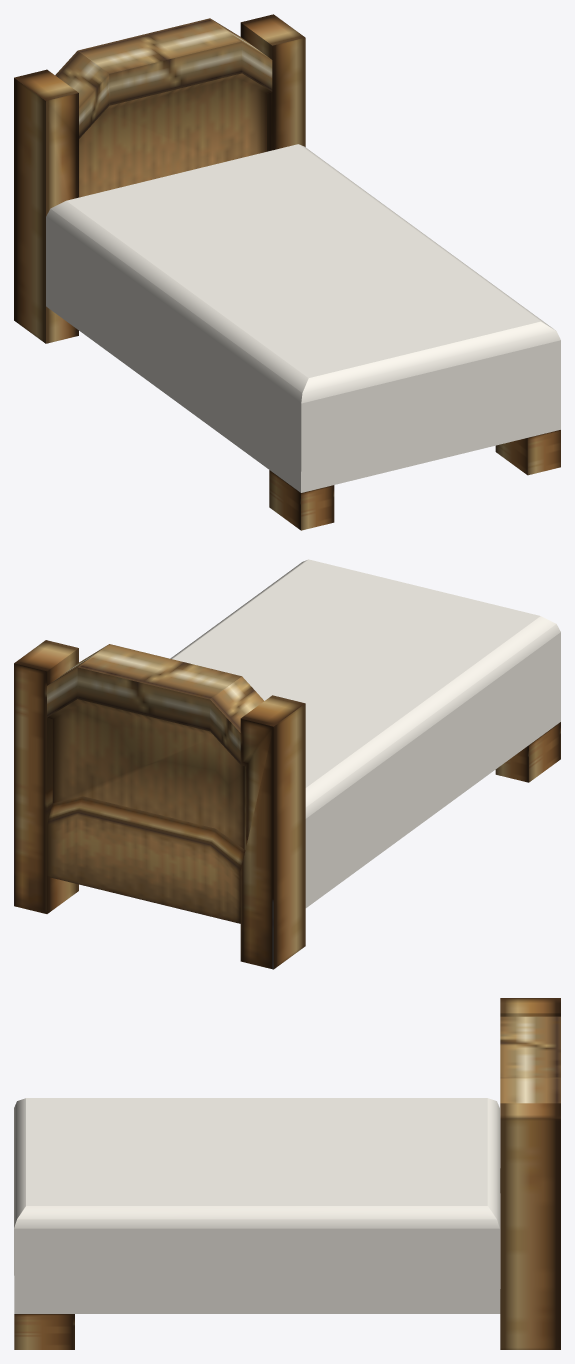
File: Inside_Poly_Bed_01_Without_Blanket_Broken.obj
3 renders of one model, top to bottom at view 1: azimuth 30°, elevation 25°; view 2: azimuth 150°, elevation 25°; view 3: azimuth 270°, elevation 25°, orthographic. The views are drawn at different scales.
Visible parts, largest first — view 1: Cube.001, Cube.003, Cube.002; view 2: Cube.003, Cube.001, Cube.002; view 3: Cube.001, Cube.003, Cube.002.
Part boxes in pixels (x1=…): Cube.001: x1=46, y1=144, x2=560, y2=492; Cube.003: x1=14, y1=14, x2=305, y2=343; Cube.002: x1=269, y1=430, x2=560, y2=530; Cube.003: x1=14, y1=640, x2=305, y2=969; Cube.001: x1=170, y1=559, x2=560, y2=907; Cube.002: x1=495, y1=722, x2=560, y2=782; Cube.001: x1=14, y1=1098, x2=500, y2=1313; Cube.003: x1=500, y1=998, x2=560, y2=1349; Cube.002: x1=14, y1=1314, x2=74, y2=1349.
Bounding box in the file's own units: 0.94 × 0.88 × 1.8.
Materials: 1 (1 with a texture image).
